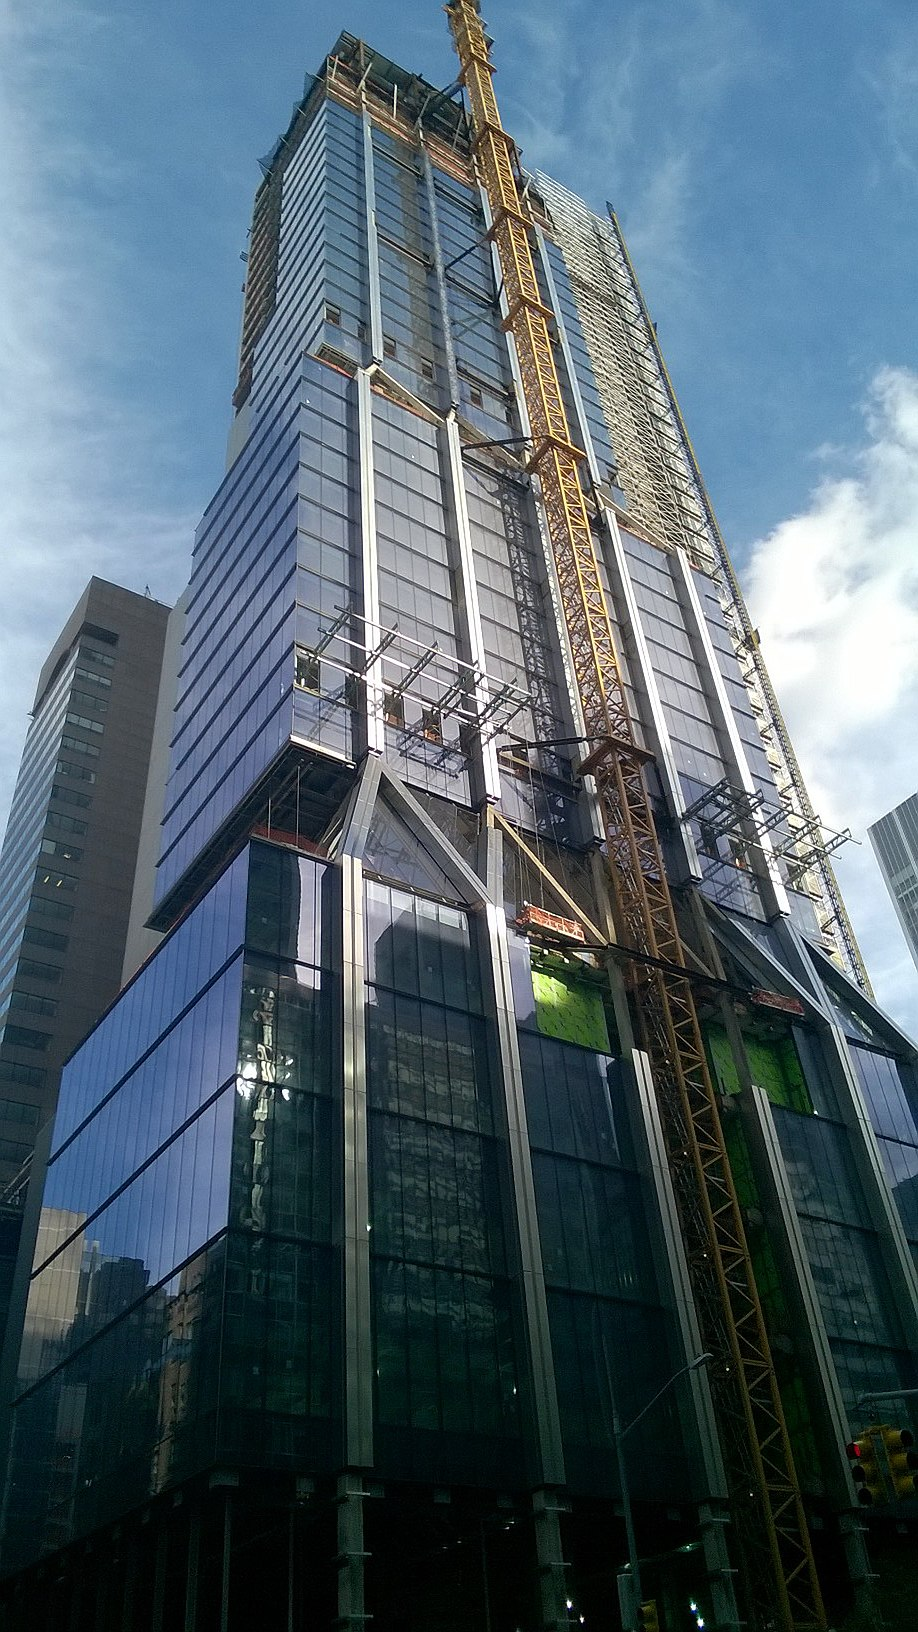Sky Building: (131, 24, 878, 1573)
